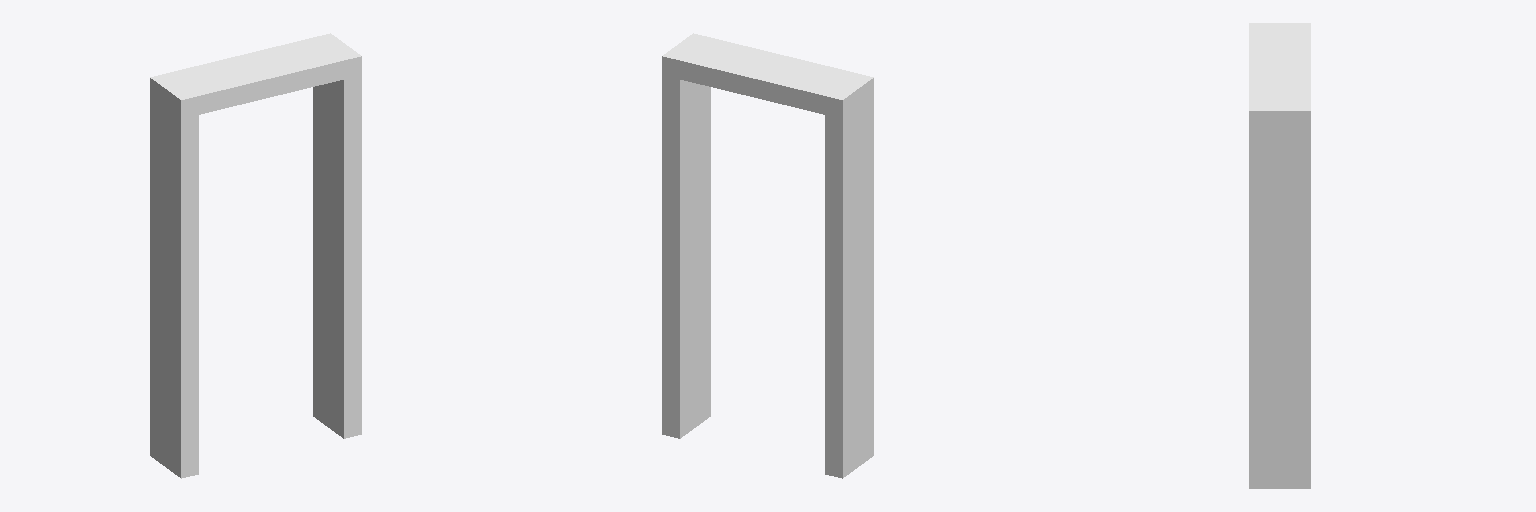
Rendered from PortalDoorFrame.obj.
3 renders of one model, left to right at view 1: azimuth 30°, elevation 25°; view 2: azimuth 150°, elevation 25°; view 3: azimuth 270°, elevation 25°, orthographic.
Visible parts, largest first — view 1: object 1; view 2: object 1; view 3: object 1.
Boxes of the visible parts, x1=… form: object 1: x1=150, y1=33, x2=361, y2=478; object 1: x1=662, y1=33, x2=873, y2=478; object 1: x1=1249, y1=23, x2=1310, y2=488.
Bounding box in the file's own units: 1 × 2 × 0.3.